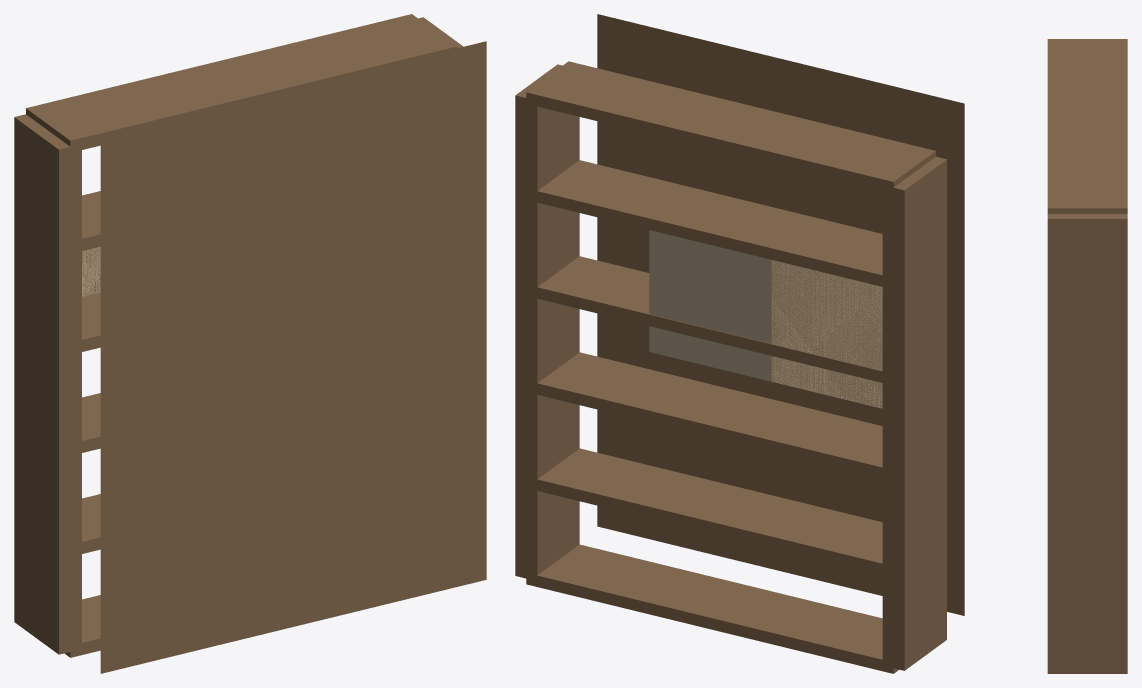
The picture shows the model from 3 angles, left to right: view 1: azimuth 30°, elevation 25°; view 2: azimuth 150°, elevation 25°; view 3: azimuth 270°, elevation 25°; orthographic projection. The views are drawn at different scales.
Visible parts, largest first — view 1: object 3, Cube, Cube.008, Cube.003, Cube.005, Cube.006, Cube.004, Cube.007, object 10; view 2: object 3, Cube, object 10, Cube.001, Cube.008, Cube.003, Cube.004, Cube.007, Cube.005, Cube.006; view 3: Cube.001, Cube.008.
Part boxes in pixels (box(x1,y1,x2,y2)): object 3: box(100, 41, 486, 673); Cube: box(14, 114, 81, 654); Cube.008: box(26, 14, 456, 152); Cube.003: box(64, 595, 100, 657); Cube.005: box(70, 393, 100, 455); Cube.006: box(70, 292, 100, 354); Cube.004: box(72, 494, 100, 555); Cube.007: box(70, 191, 100, 253); object 10: box(82, 246, 100, 296); object 3: box(597, 14, 964, 615); Cube: box(882, 156, 946, 670); object 10: box(649, 230, 882, 408); Cube.001: box(515, 64, 579, 580); Cube.008: box(526, 61, 935, 193); Cube.003: box(526, 544, 898, 673); Cube.004: box(526, 448, 893, 577); Cube.007: box(526, 160, 893, 289); Cube.005: box(526, 352, 893, 481); Cube.006: box(526, 256, 893, 385); Cube.001: box(1047, 214, 1127, 673); Cube.008: box(1047, 39, 1127, 213).
Bounding box in the file's own units: 2.12 × 2.7 × 0.6711.
